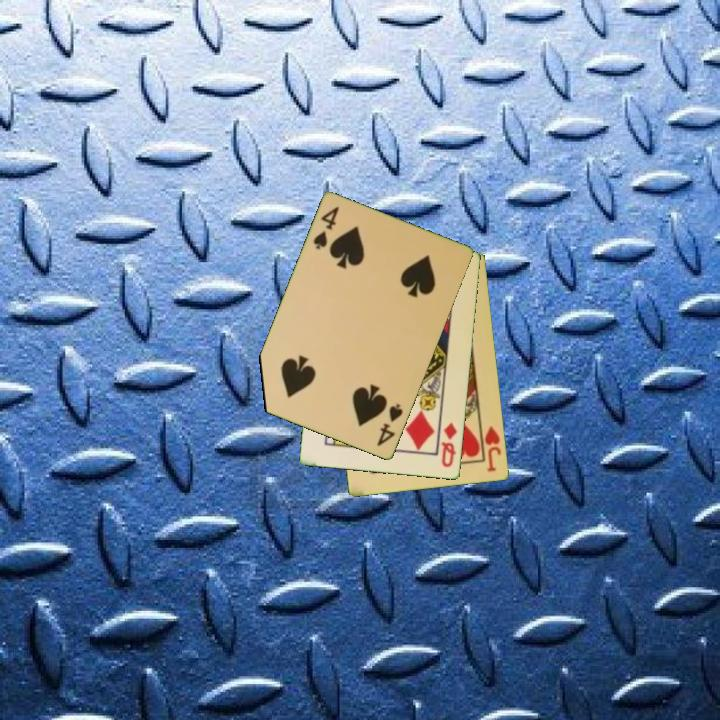4s: (373, 400, 406, 450), (310, 203, 342, 253)
Jh: (477, 420, 504, 475)
Qd: (438, 419, 460, 470)
